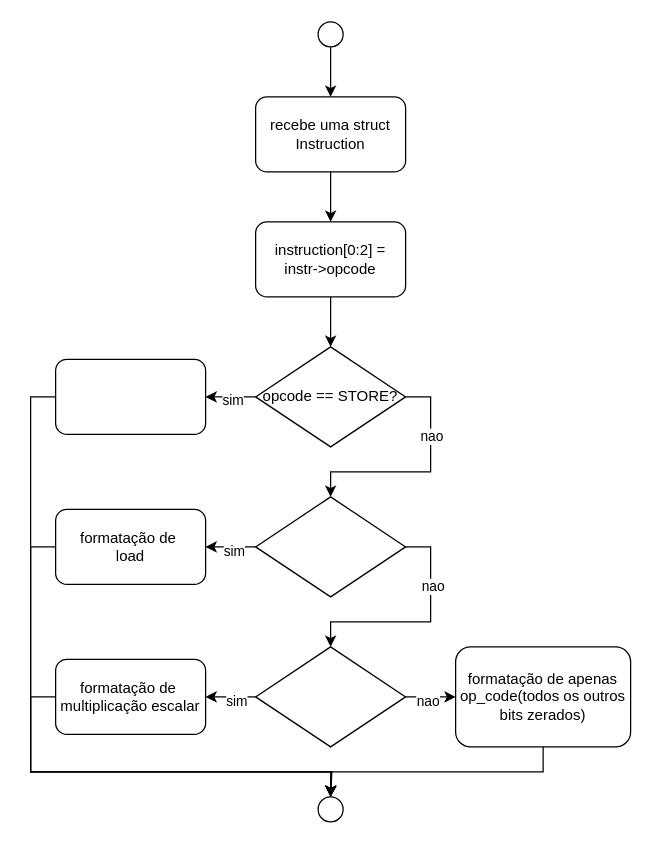
This 653x844 diagram has some shape labels left out. Each missing label, with the centre of its shape:
formatação de store: the point at 130,396
opcode == LOAD?: the point at 330,546
opcode == SCALAR?: the point at 330,696
